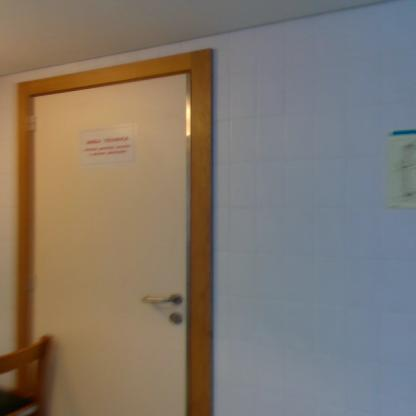door: (32, 96, 188, 415)
hinged: (28, 272, 38, 291), (27, 114, 37, 132)
lever: (140, 295, 178, 305)
